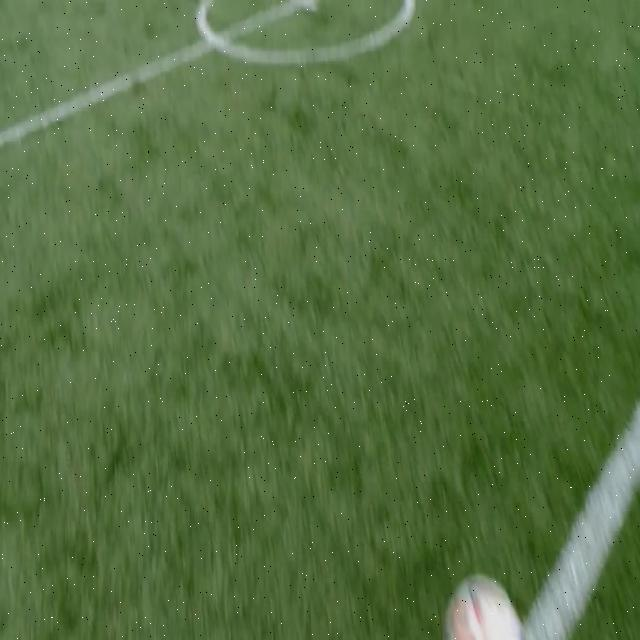ball: (445, 573, 529, 640)
